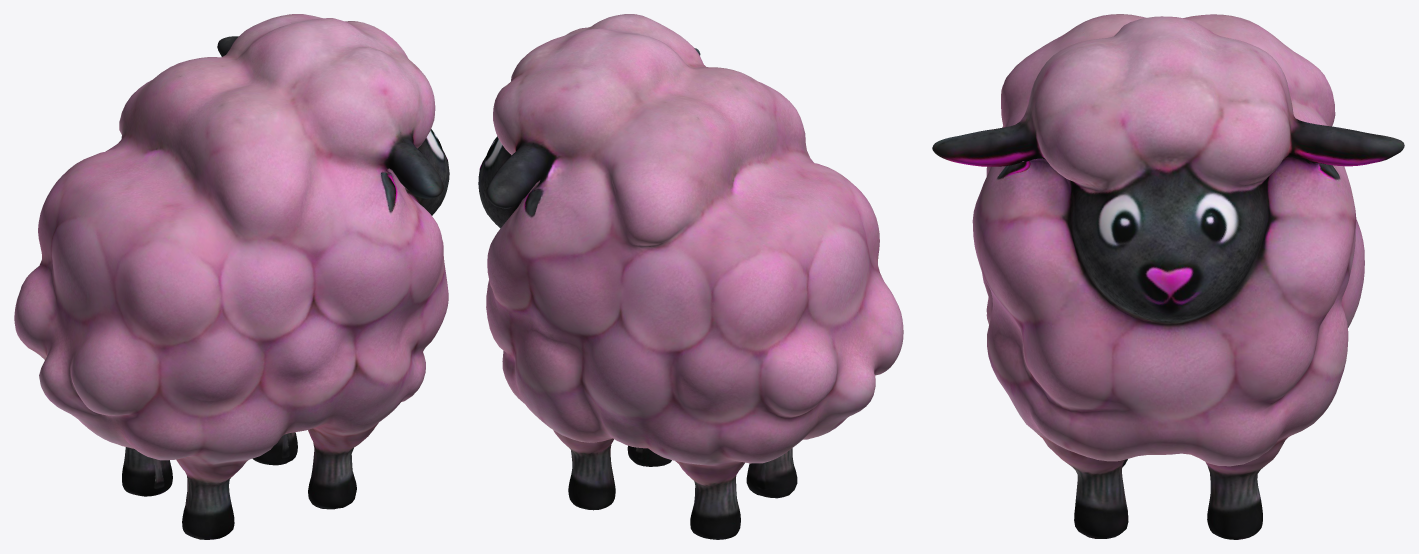
Rendered from pink_sheep.glb.
3 renders of one model, left to right at view 1: azimuth 30°, elevation 25°; view 2: azimuth 150°, elevation 25°; view 3: azimuth 270°, elevation 25°, orthographic. The views are drawn at different scales.
Parts seen in each view (by area): view 1: mesh; view 2: mesh; view 3: mesh.
Boxes of the visible parts, bbox=[...] form: mesh: bbox=[14, 14, 449, 539]; mesh: bbox=[478, 14, 903, 539]; mesh: bbox=[932, 14, 1404, 539].
Size of the model in its own units: 0.9092 by 0.9994 by 0.8367.
1 material, 1 textured.
